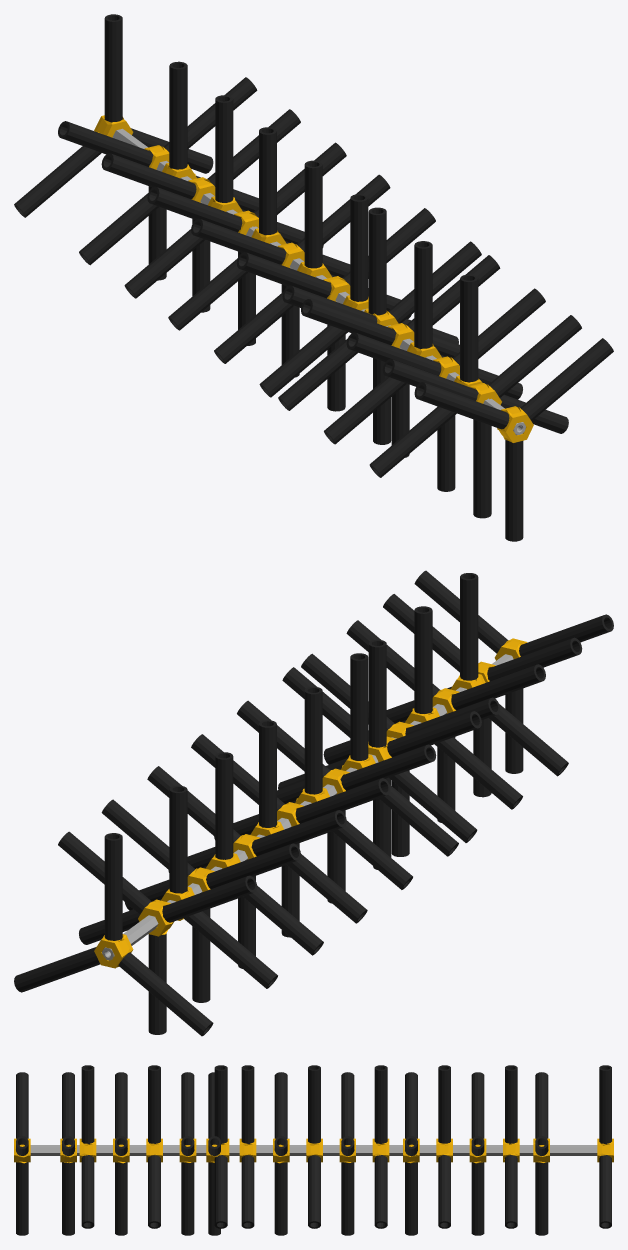
Rendered from intakeRoller.glb.
3 views of the same model, one above another, from view 1: azimuth 30°, elevation 25°; view 2: azimuth 150°, elevation 25°; view 3: azimuth 270°, elevation 25° (orthographic). The views are drawn at different scales.
Visible parts, largest first — view 1: intakeRoller_0, intakeRoller_1, intakeRoller_2; view 2: intakeRoller_0, intakeRoller_1, intakeRoller_2; view 3: intakeRoller_0, intakeRoller_1, intakeRoller_2.
Part boxes in pixels (x1,y1,x2,y2): intakeRoller_0: (14, 14, 613, 541); intakeRoller_1: (94, 115, 533, 442); intakeRoller_2: (112, 128, 525, 435); intakeRoller_0: (14, 570, 613, 1036); intakeRoller_1: (94, 638, 527, 968); intakeRoller_2: (102, 654, 513, 960); intakeRoller_0: (16, 1065, 611, 1235); intakeRoller_1: (14, 1138, 613, 1163); intakeRoller_2: (30, 1145, 597, 1155).
Bounding box in the file's own units: 4.66 × 5.17 × 17.03.
